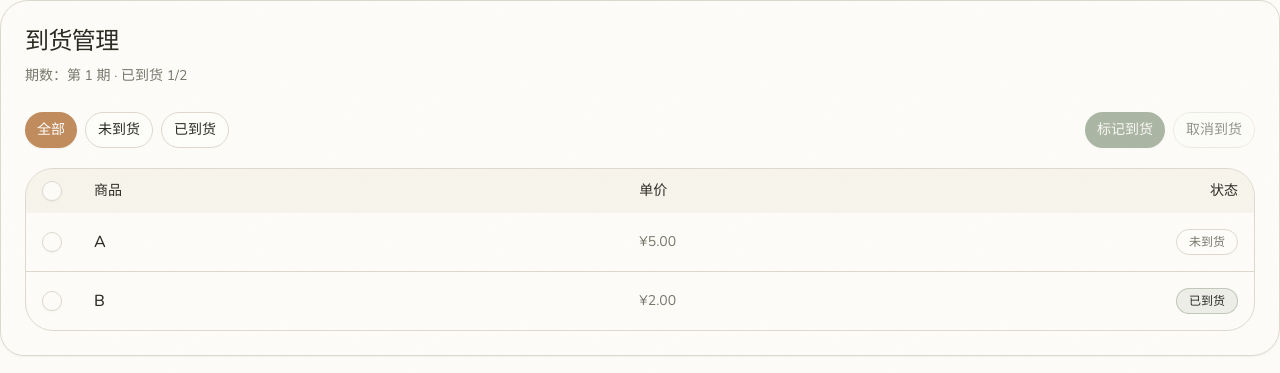
Scenario: ArrivalManager select-all toggles visible selections
This screenshot has width=1280, height=373.
Click the button "未到货": coordinates (119, 130) [85,112,153,148]
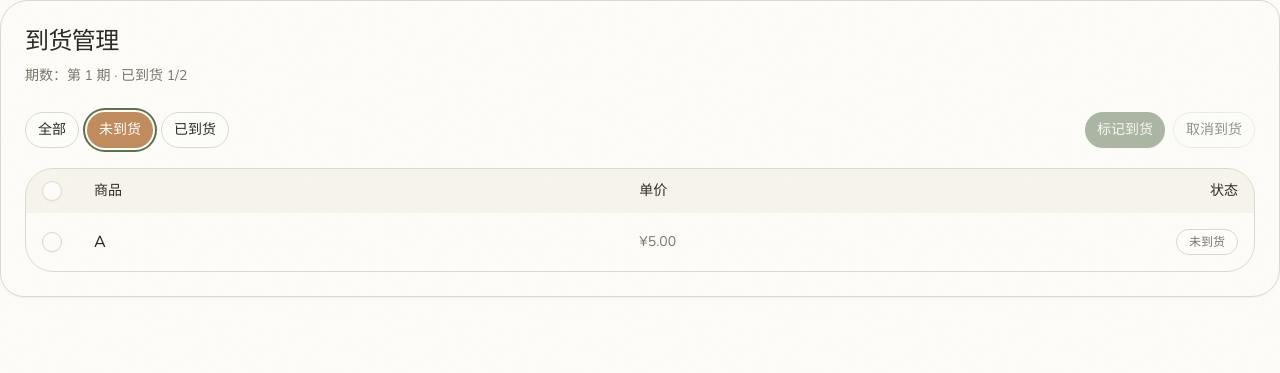
Click the checkbox named "Select all": coordinates (52, 191) [42,181,62,201]
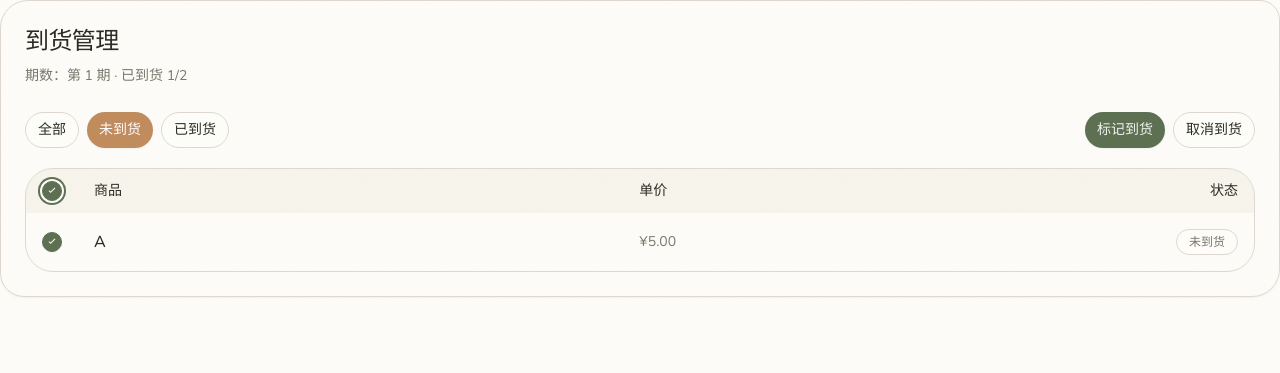
expect the checkbox named "Select A" is checked: met, box [42,232,62,252]
Click the checkbox named "Select all": coordinates (52, 191) [42,181,62,201]
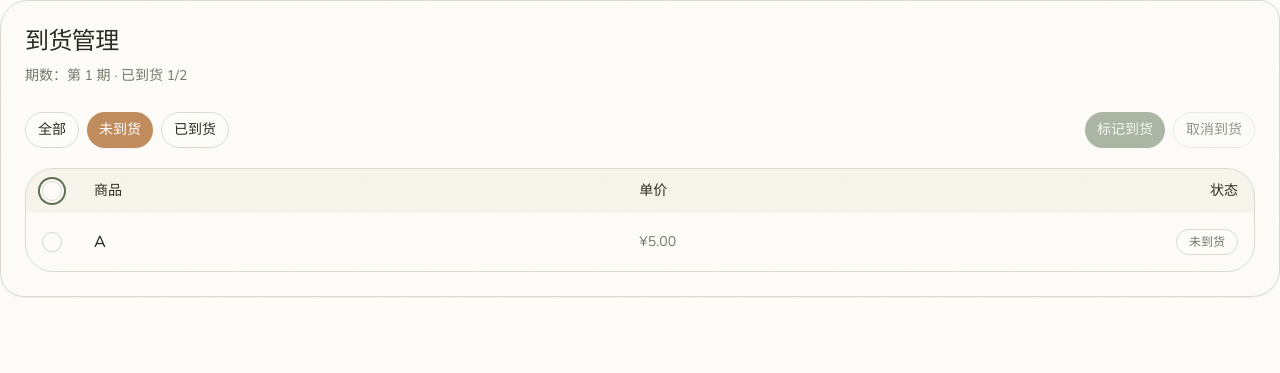
expect the checkbox named "Select A" is not checked: met, box [42,232,62,252]
